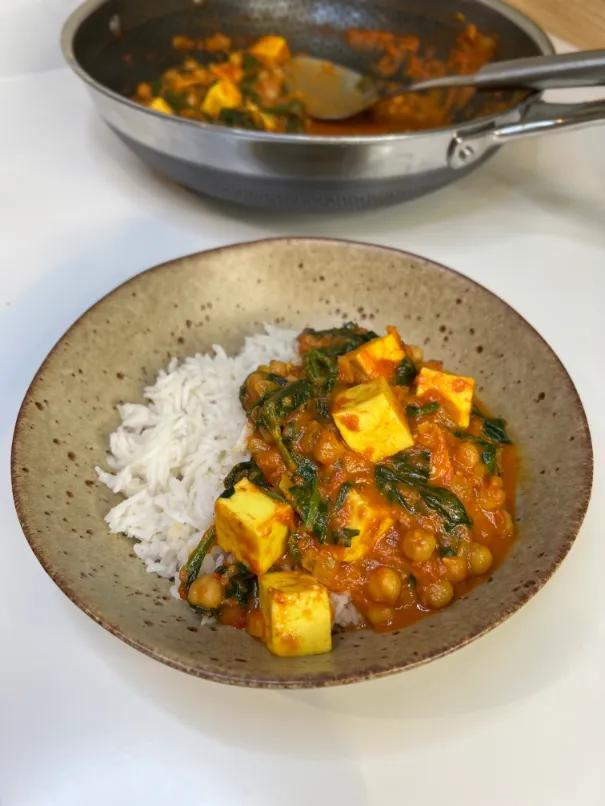paneer: (264, 322, 532, 662)
